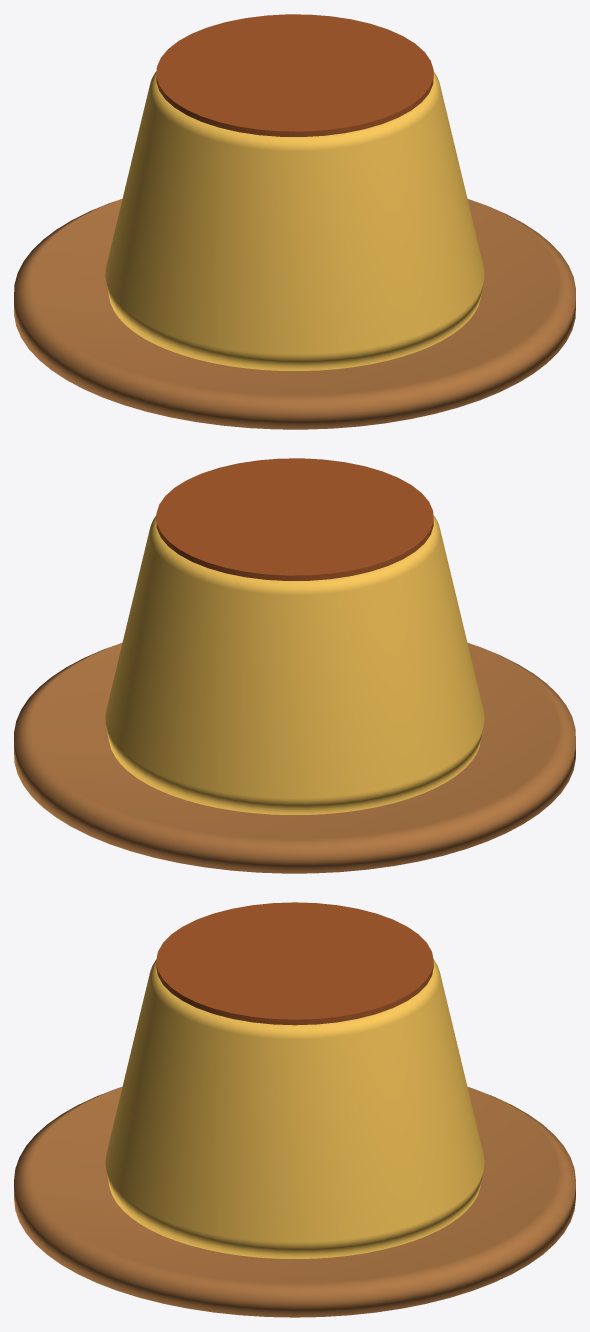
The model's file is 30-caramel-pudding.glb.
The picture shows the model from 3 angles, top to bottom: view 1: azimuth 30°, elevation 25°; view 2: azimuth 150°, elevation 25°; view 3: azimuth 270°, elevation 25°; orthographic projection.
Visible parts, largest first — view 1: 캐러멜 푸딩; view 2: 캐러멜 푸딩; view 3: 캐러멜 푸딩.
Boxes of the visible parts, x1,y1,x2,y2 form: 캐러멜 푸딩: (14,14,575,429); 캐러멜 푸딩: (14,458,575,873); 캐러멜 푸딩: (14,902,575,1317).
Size of the model in its own units: 1.66 by 0.835 by 1.66.
